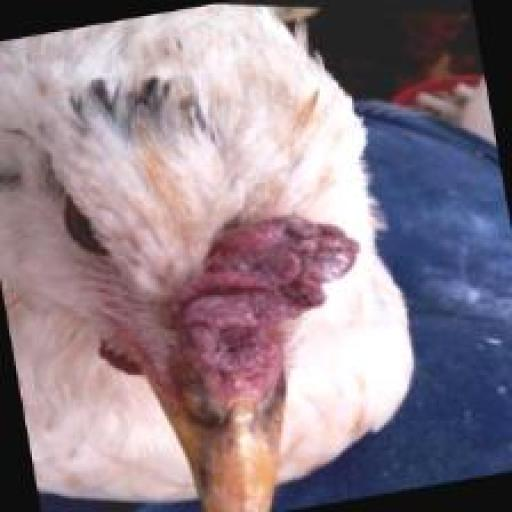disease: (170, 194, 364, 475)
